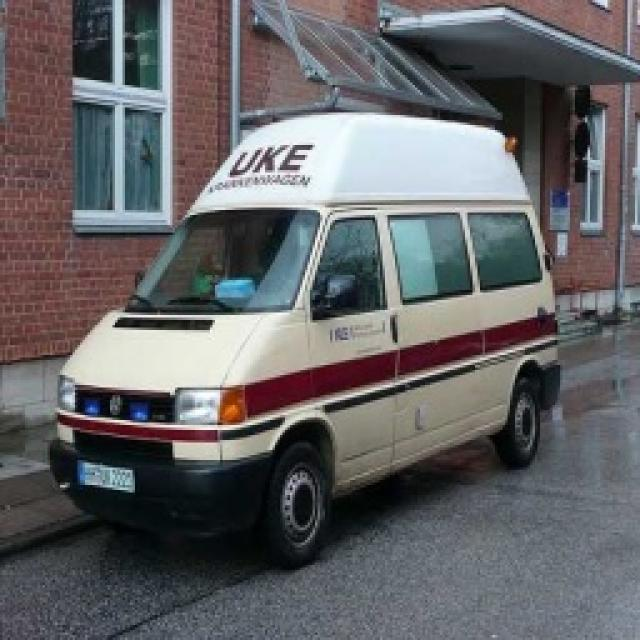emergency-vehicle: (52, 108, 562, 567)
